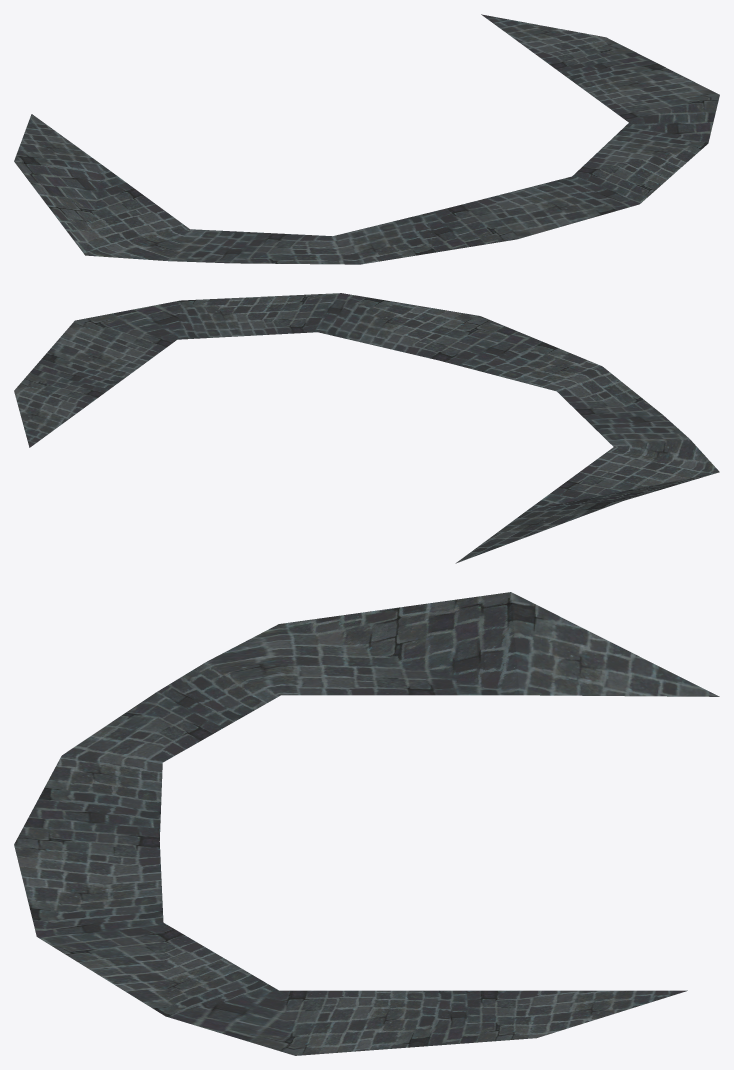
File: blend_brick.fbx
3 renders of one model, top to bottom at view 1: azimuth 30°, elevation 25°; view 2: azimuth 150°, elevation 25°; view 3: azimuth 270°, elevation 25°, orthographic. The views are drawn at different scales.
Visible parts, largest first — view 1: obj0; view 2: obj0; view 3: obj0.
Part boxes in pixels (x1,y1,x2,y2): obj0: [14, 14, 719, 264]; obj0: [14, 293, 719, 563]; obj0: [14, 592, 719, 1055].
Size of the model in its own units: 14.38 by 0.6524 by 9.93.
